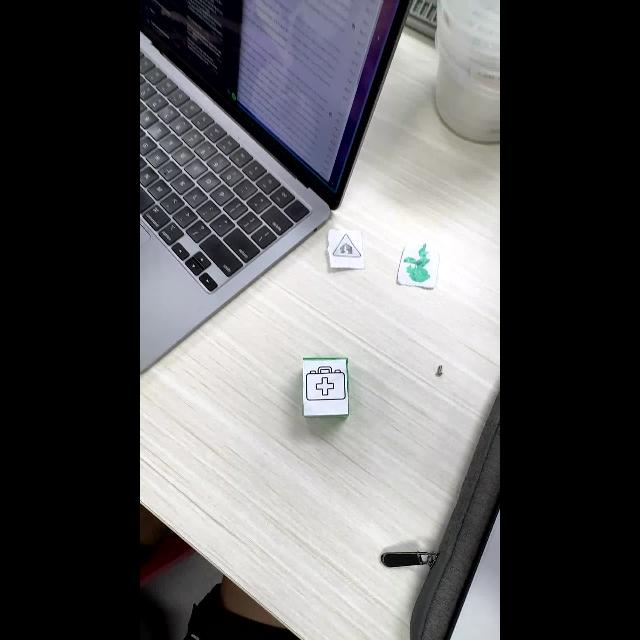Medkit: (306, 366, 345, 402)
